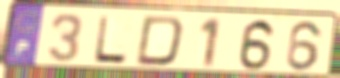1: (198, 17, 223, 70)
3: (47, 11, 86, 65)
6: (284, 19, 325, 73), (238, 18, 278, 72)
D: (133, 15, 187, 68)
L: (91, 14, 130, 65)
